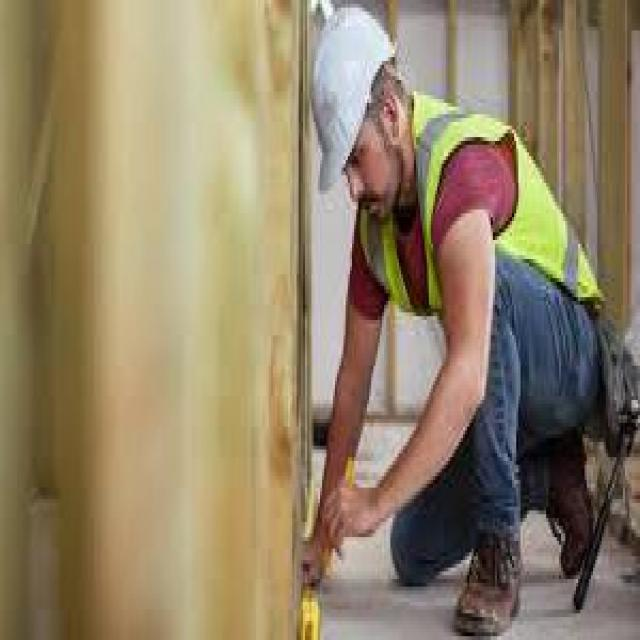Reflective-Jacket: (363, 88, 614, 339)
Safety-Helmet: (290, 0, 407, 194)
